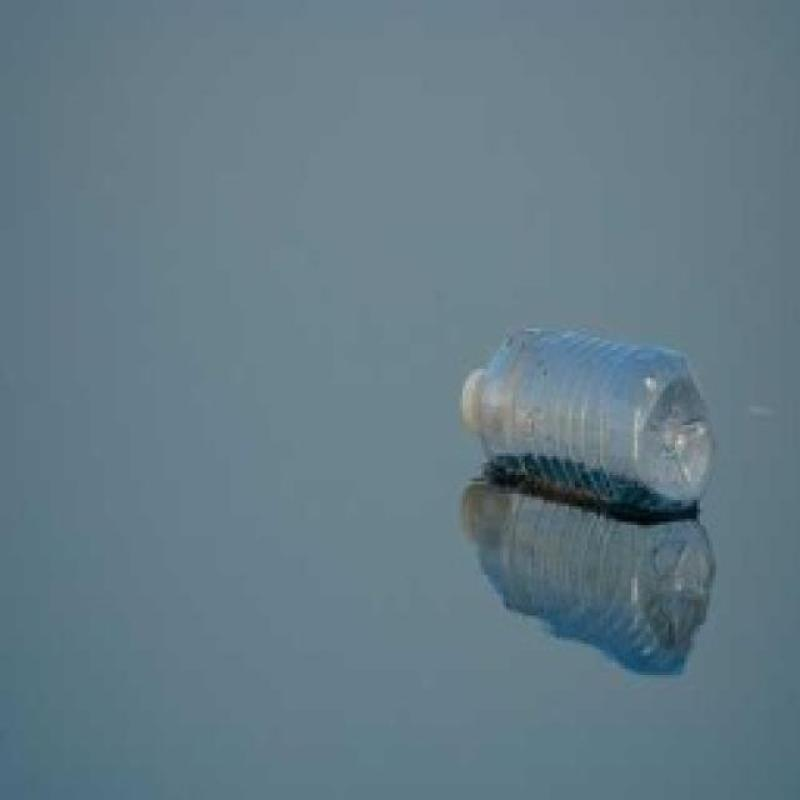botella: (458, 326, 714, 518)
